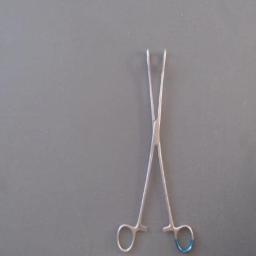Sponge Forceps: (112, 44, 198, 254)
